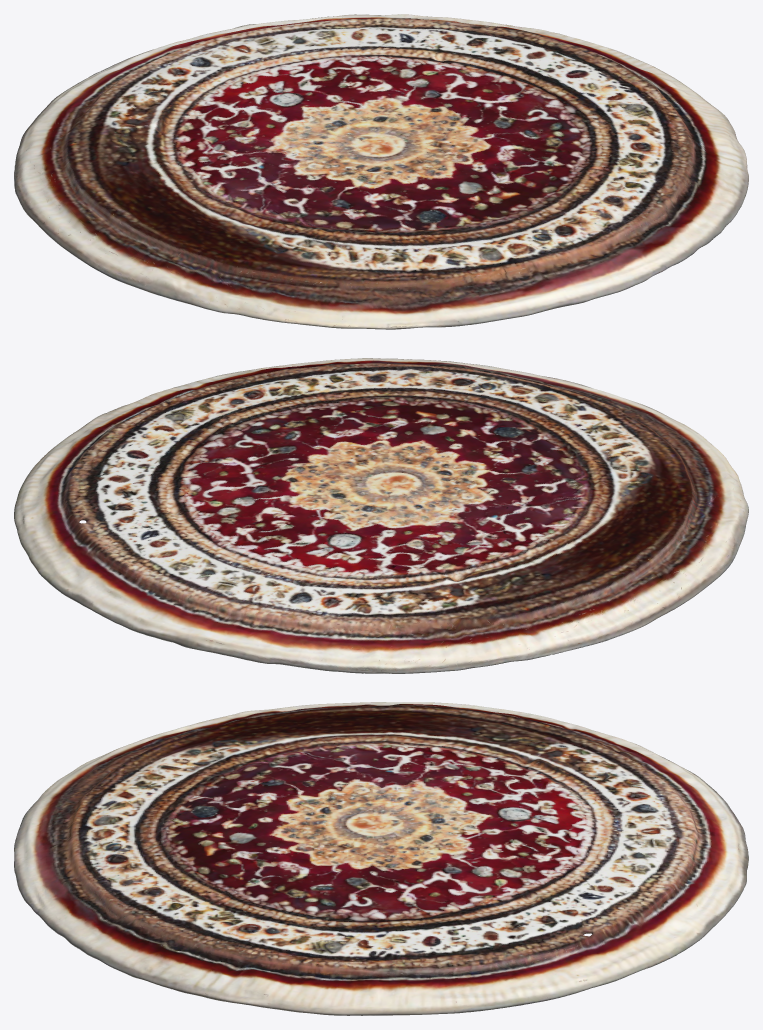
File: Meshy_AI_Ornate_Mandala_Rug_0225023430_texture.glb
3 renders of one model, top to bottom at view 1: azimuth 30°, elevation 25°; view 2: azimuth 150°, elevation 25°; view 3: azimuth 270°, elevation 25°, orthographic.
Bounding box in the file's own units: 1.99 × 0.1031 × 1.99.
1 material, 1 textured.
